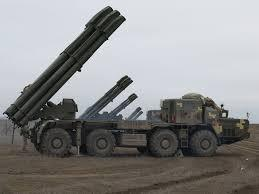MIL_SAM_TEL: (4, 5, 251, 159)
